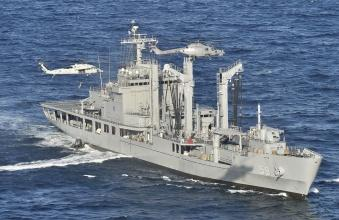airplane: (147, 37, 228, 59), (35, 57, 102, 81)
warship: (54, 58, 322, 189)
